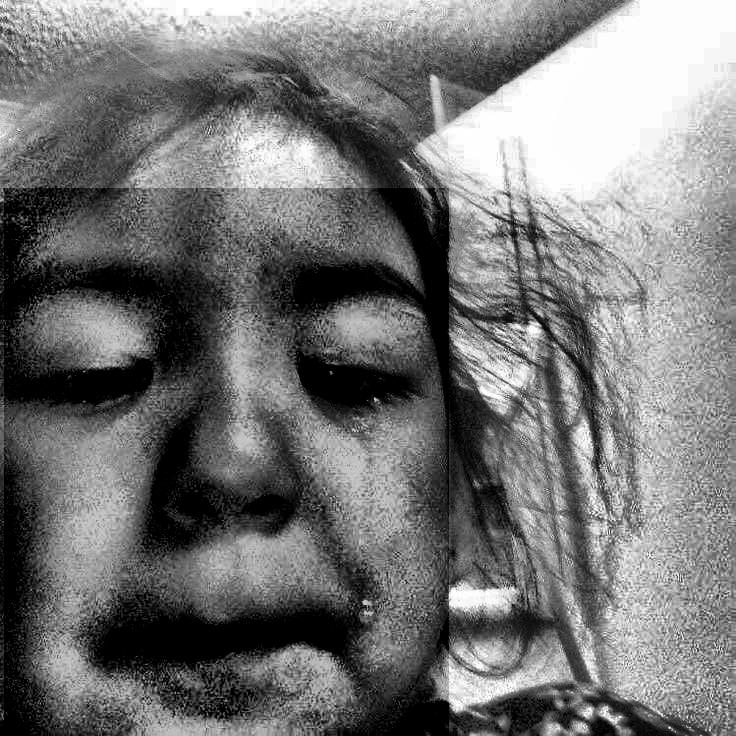sad: (4, 188, 449, 736)
